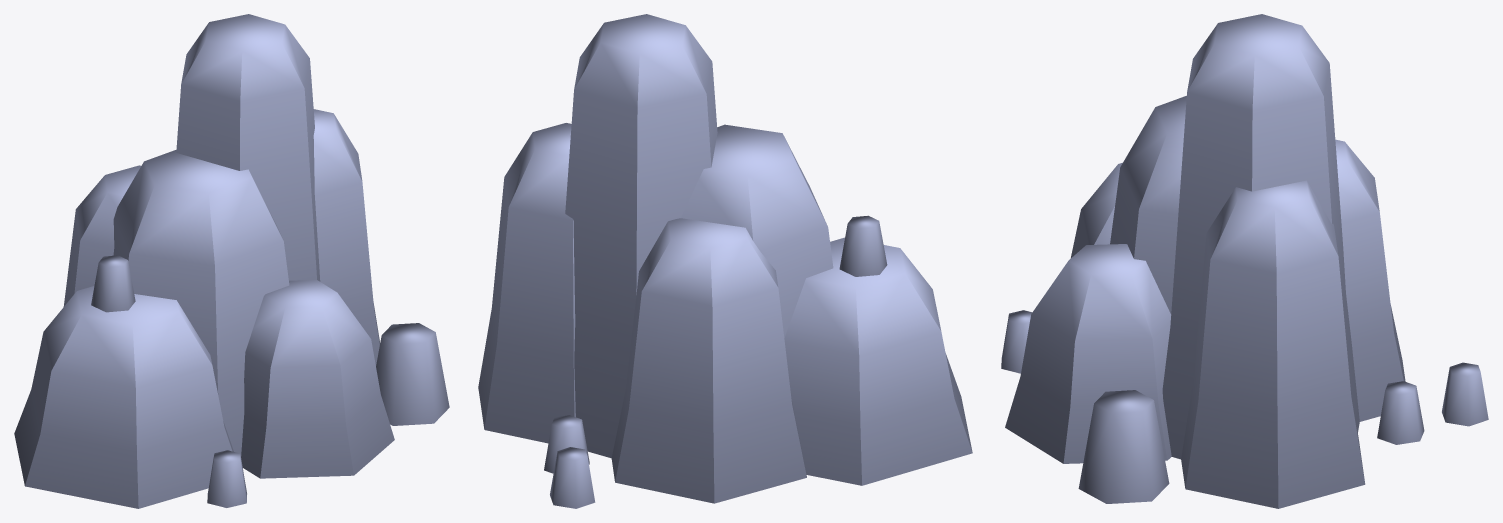
The model's file is rocks.003_lev2.glb.
3 renders of one model, left to right at view 1: azimuth 30°, elevation 25°; view 2: azimuth 150°, elevation 25°; view 3: azimuth 270°, elevation 25°, orthographic. The views are drawn at different scales.
Visible parts, largest first — view 1: rocks.003_lev2; view 2: rocks.003_lev2; view 3: rocks.003_lev2.
Boxes of the visible parts, x1,y1,x2,y2 form: rocks.003_lev2: (14, 14, 449, 508); rocks.003_lev2: (478, 14, 972, 508); rocks.003_lev2: (1001, 14, 1488, 508).
Size of the model in its own units: 9.01 by 7.55 by 8.42.
Materials: 1 (1 with a texture image).
